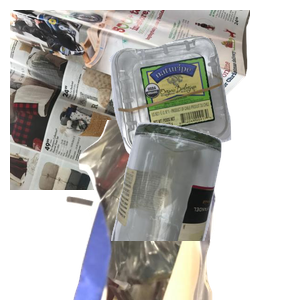glass: (109, 120, 300, 300)
paper: (10, 10, 250, 190)
plastic: (106, 34, 300, 183)
trash: (63, 120, 300, 300)
